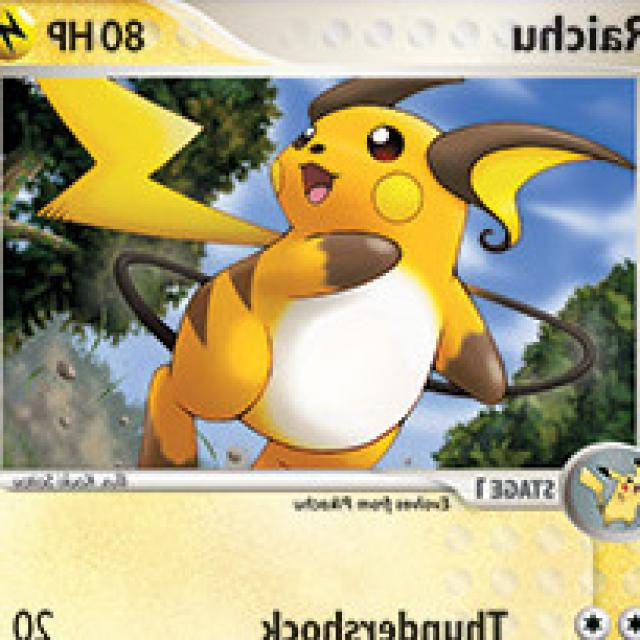Raichu: (133, 80, 538, 471)
